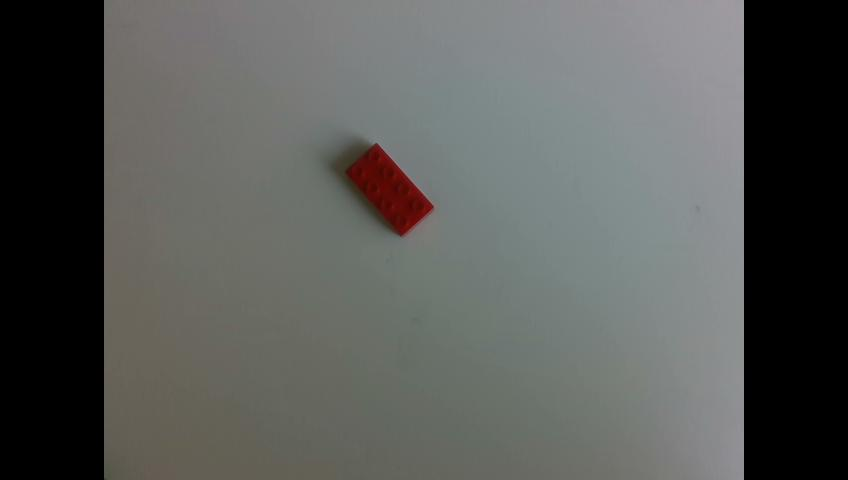4x2_red: (347, 143, 432, 234)
